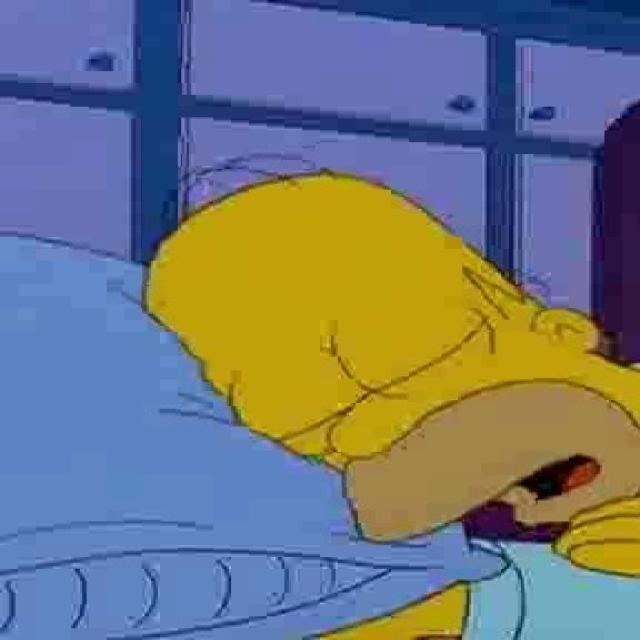Homer Simpson: (135, 157, 640, 549)
